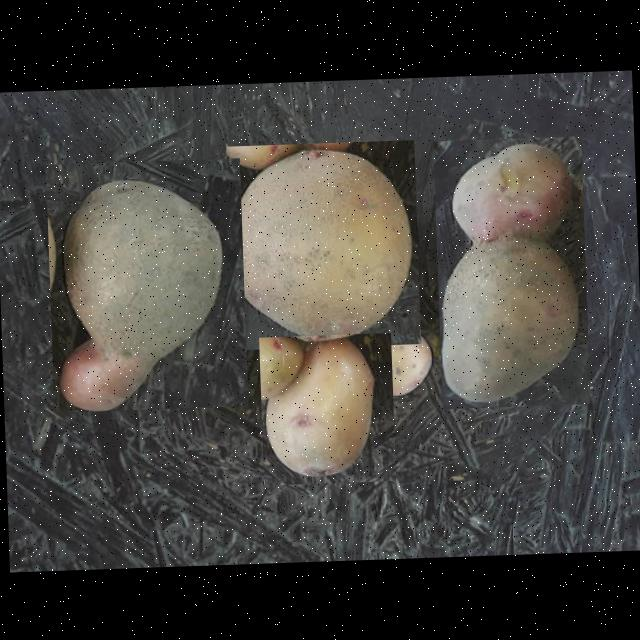Potato: (44, 156, 247, 412), (432, 134, 589, 408), (225, 139, 420, 349), (258, 332, 394, 484), (343, 320, 432, 395)
